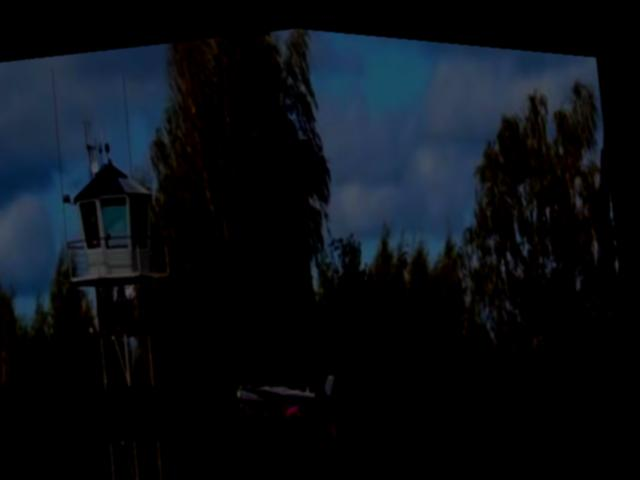iha: (232, 349, 348, 414)
